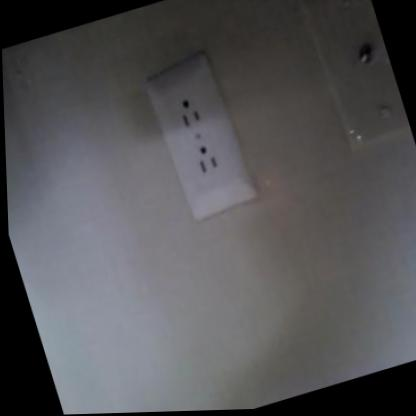OUTLET: (142, 57, 260, 224)
